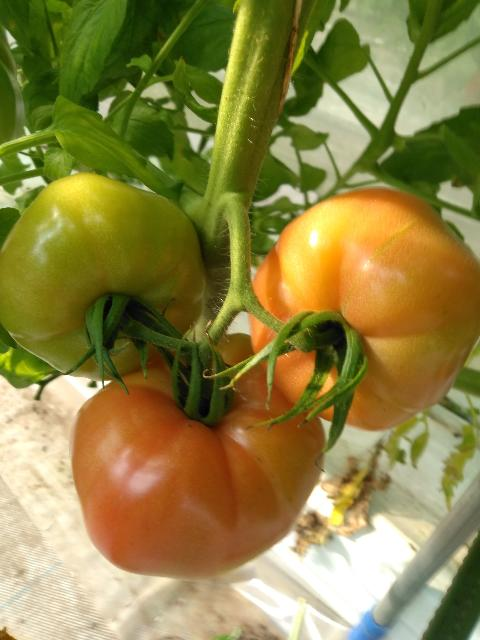b_green: (0, 172, 207, 381)
b_half_ripened: (68, 333, 326, 580), (248, 187, 480, 432)
